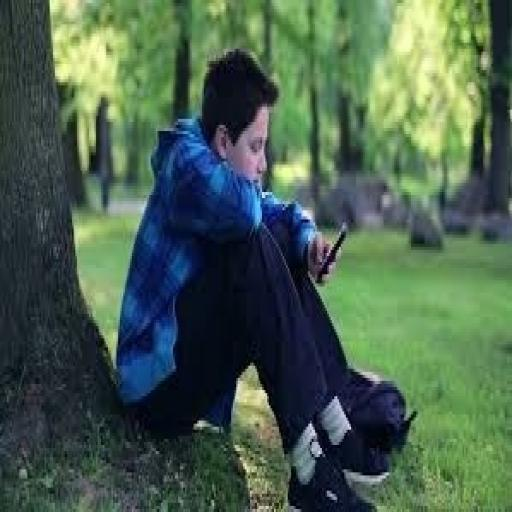texting: (113, 43, 408, 506)
